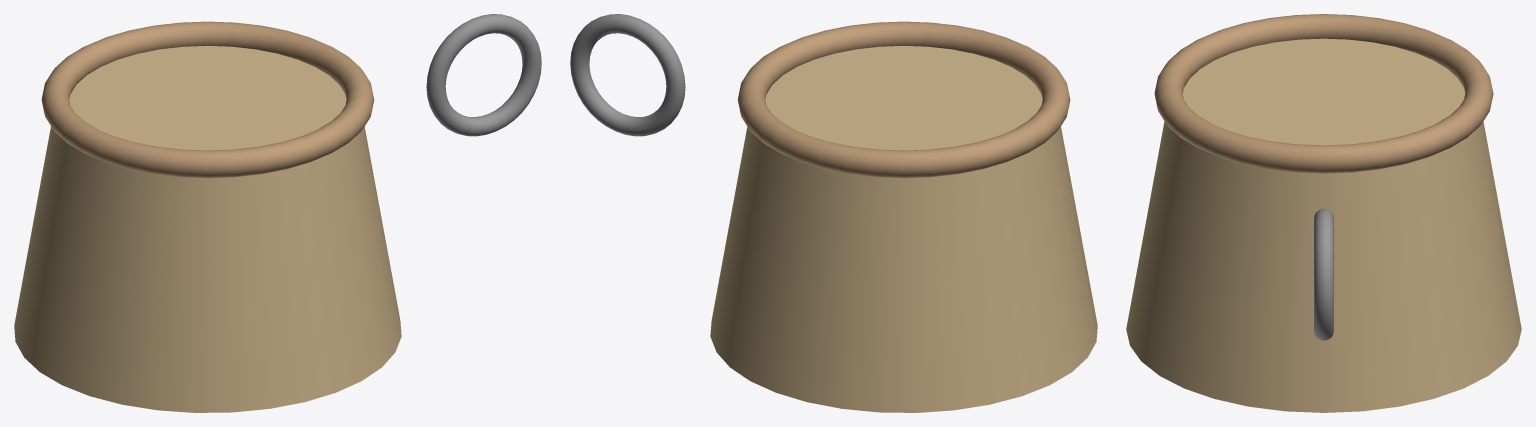
The model's file is pearl.glb.
3 views of the same model, side by side, from view 1: azimuth 30°, elevation 25°; view 2: azimuth 150°, elevation 25°; view 3: azimuth 270°, elevation 25° (orthographic).
Bounding box in the file's own units: 2.09 × 0.985 × 1.4.
